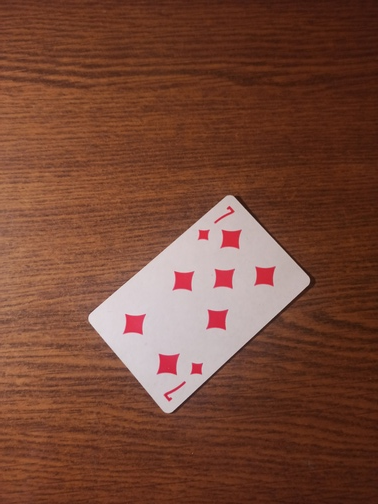sevendiamonds: (84, 192, 313, 414)
